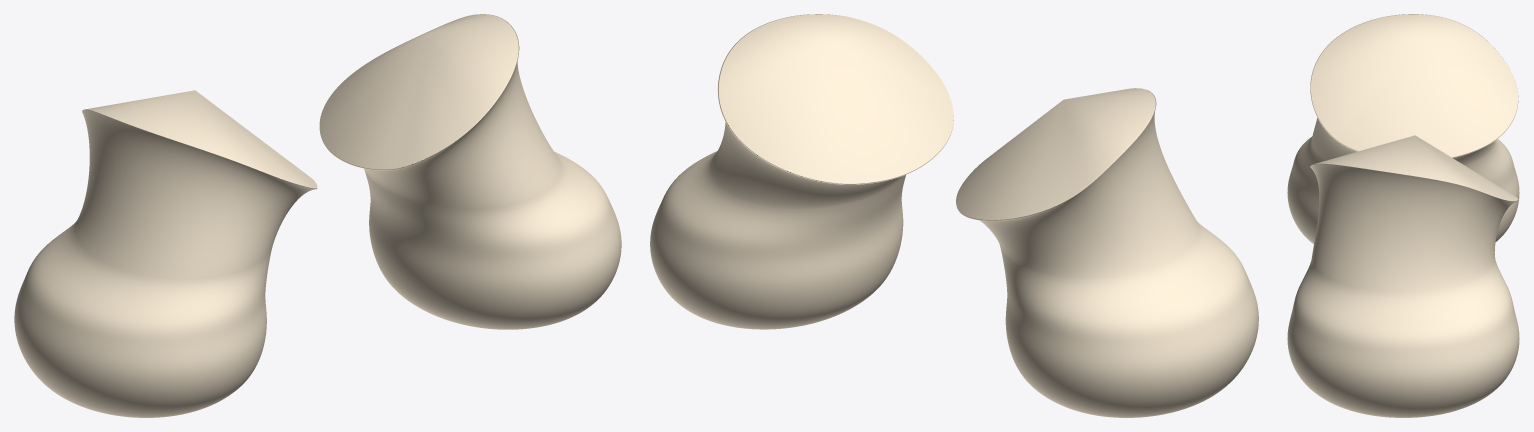
Rendered from legs.glb.
3 views of the same model, side by side, from view 1: azimuth 30°, elevation 25°; view 2: azimuth 150°, elevation 25°; view 3: azimuth 270°, elevation 25° (orthographic). The views are drawn at different scales.
Parts seen in each view (by area): view 1: Leg_L, Leg_R; view 2: Leg_R, Leg_L; view 3: Leg_R, Leg_L.
Boxes of the visible parts, x1,y1,x2,y2 form: Leg_L: (14, 90, 317, 417); Leg_R: (319, 14, 621, 329); Leg_R: (650, 14, 953, 329); Leg_L: (956, 88, 1258, 417); Leg_R: (1287, 135, 1519, 417); Leg_L: (1287, 14, 1519, 244).
Size of the model in its own units: 54.7 by 25.75 by 23.
